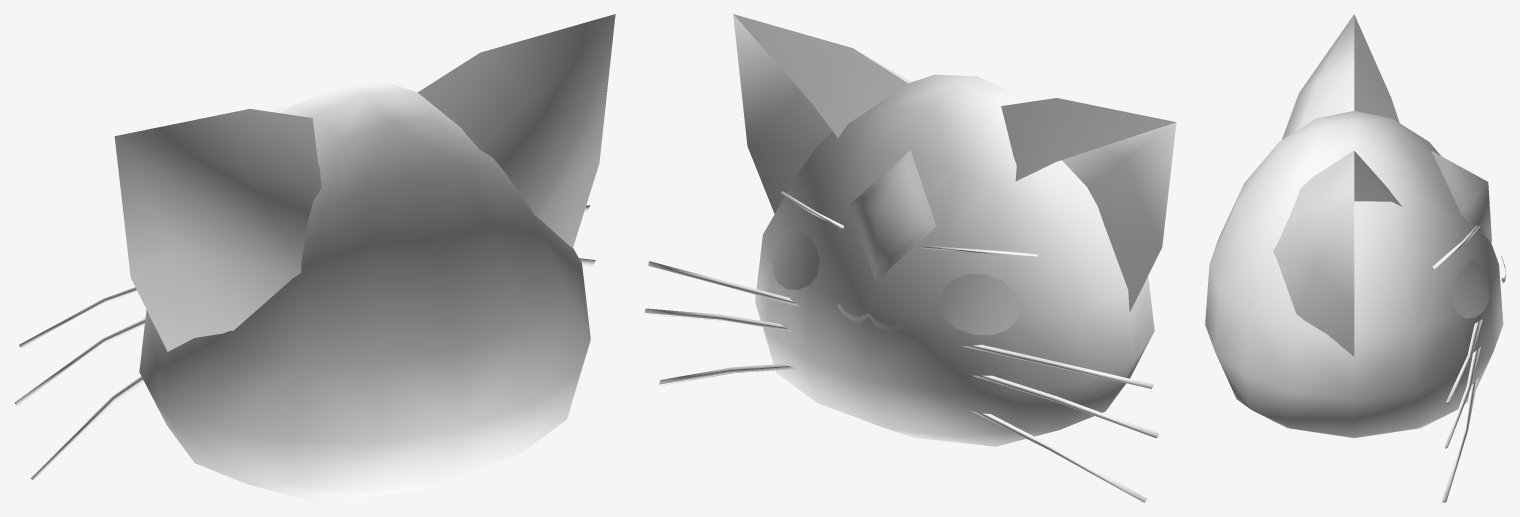
File: mc.ico.obj
The picture shows the model from 3 angles, left to right: view 1: azimuth 30°, elevation 25°; view 2: azimuth 150°, elevation 25°; view 3: azimuth 270°, elevation 25°; orthographic projection. The views are drawn at different scales.
Bounding box in the file's own units: 4.87 × 3.17 × 2.85.
Materials: 1 (1 with a texture image).
